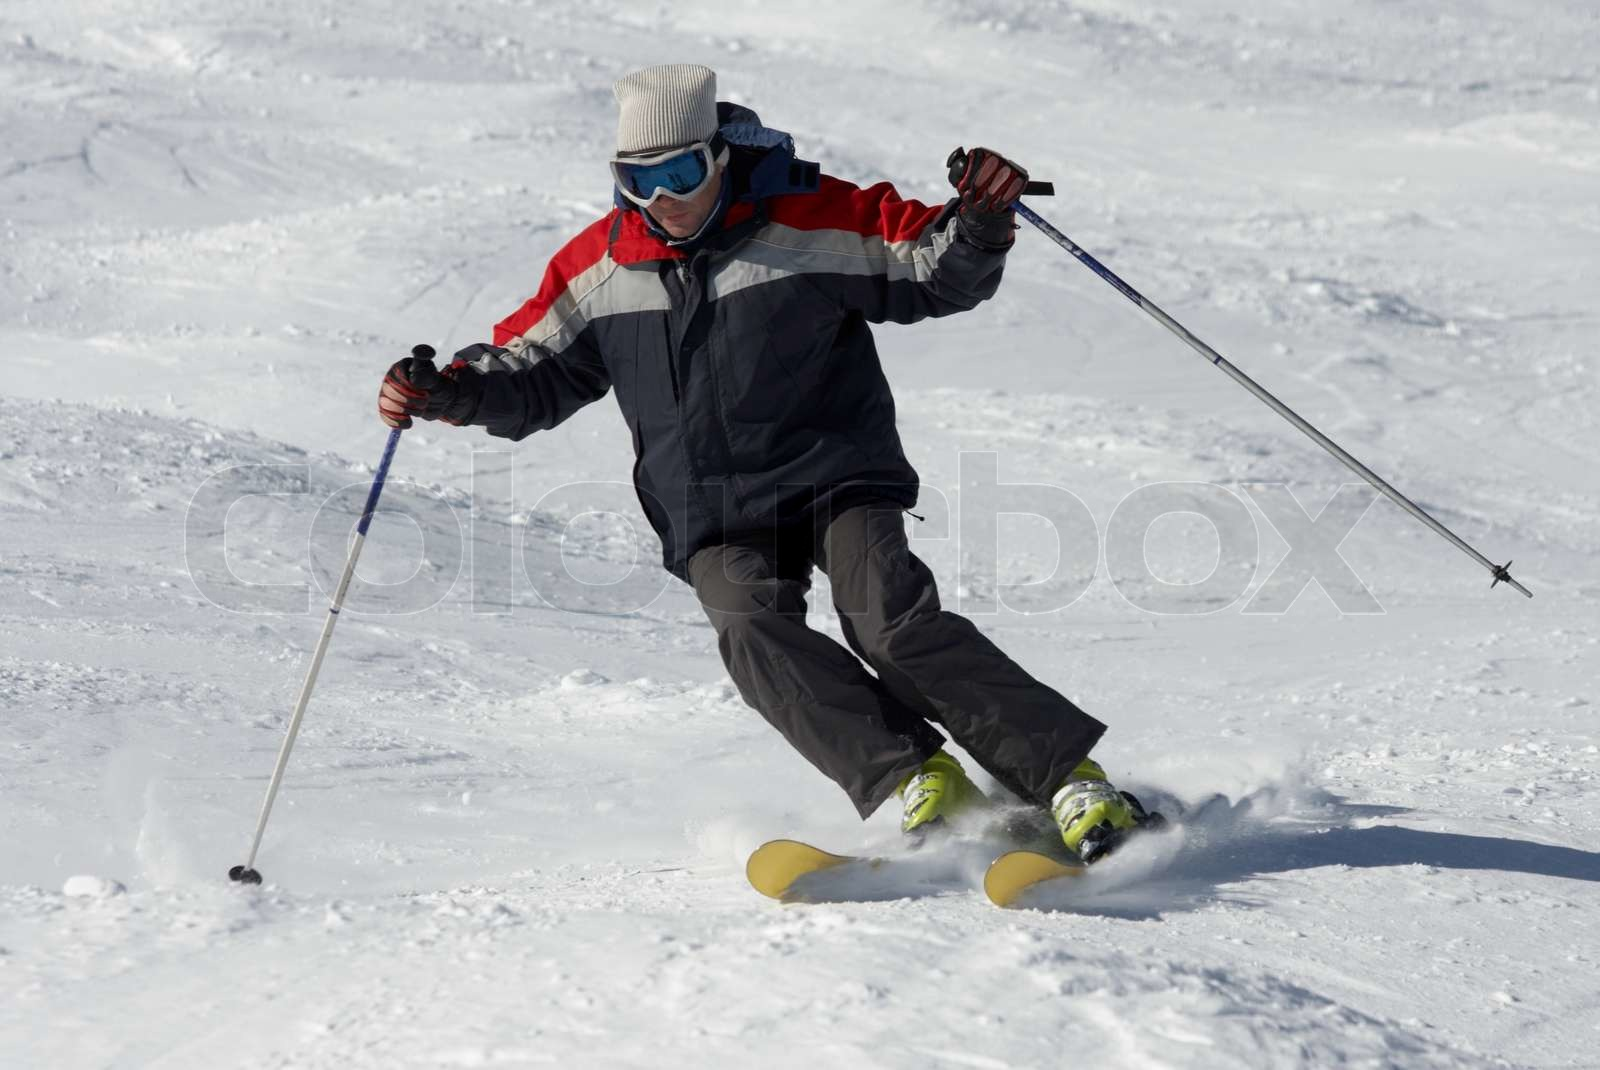skier: (184, 41, 1557, 933)
